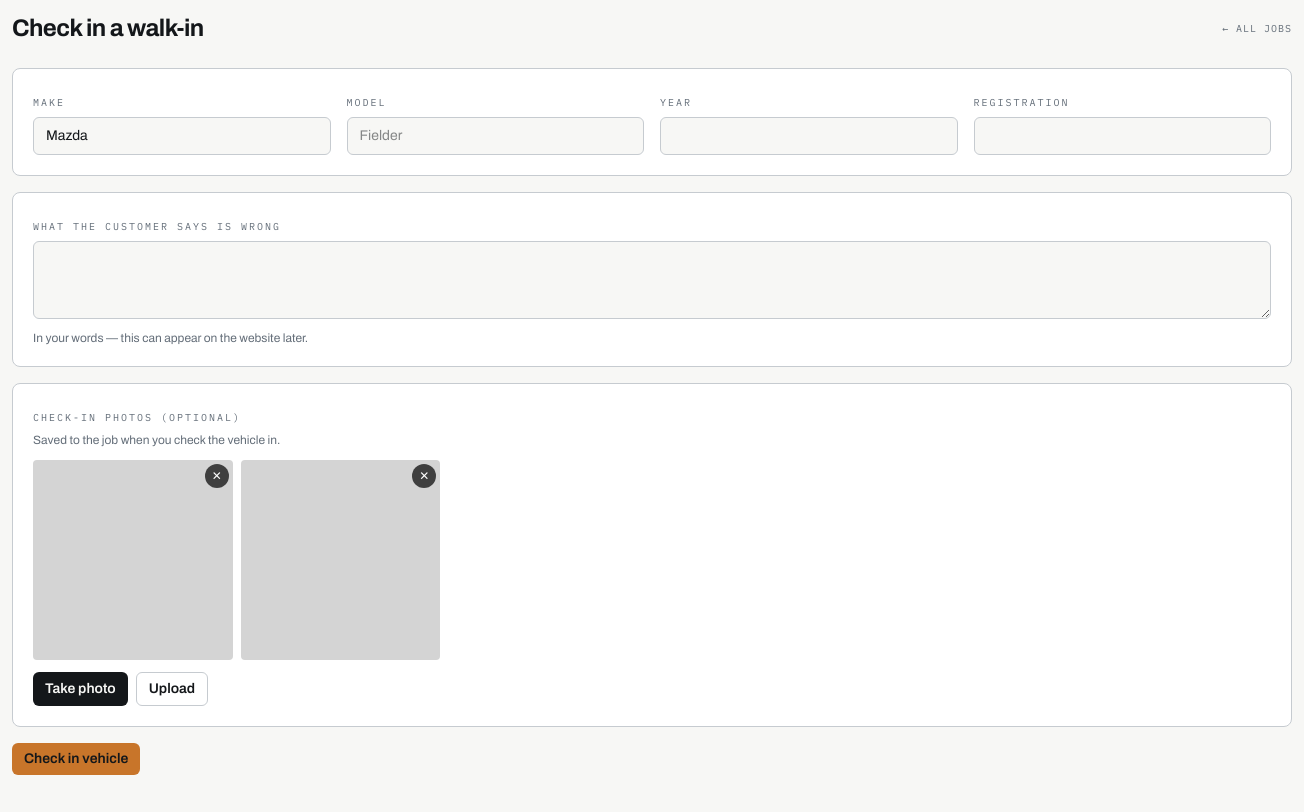
Test case: <WalkInForm /> › uploads check-in photos once the job exists
Earlier steps of the test are not shown.
Click the button named "Remove check-in photo 1": (217, 476) [205,464,229,488]
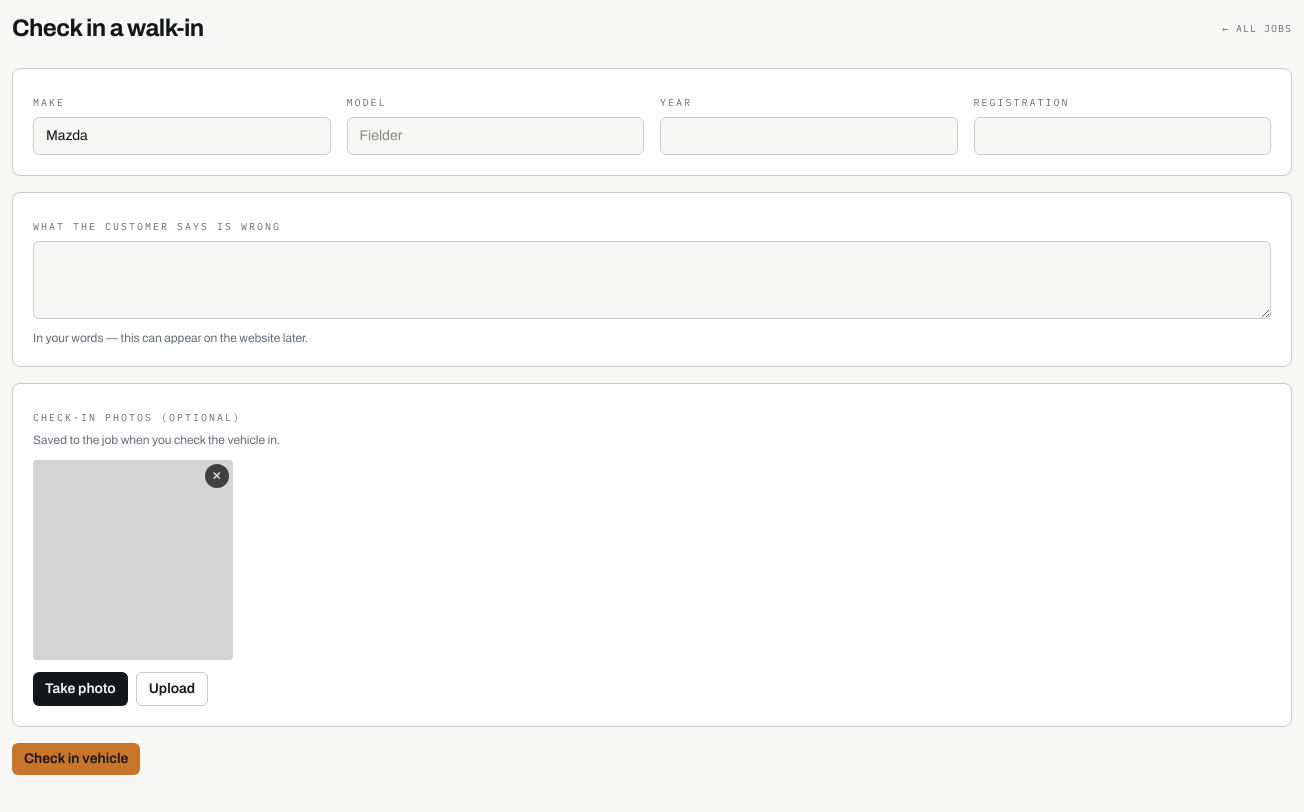
Click the button "Check in vehicle": (76, 759) [12,743,140,775]
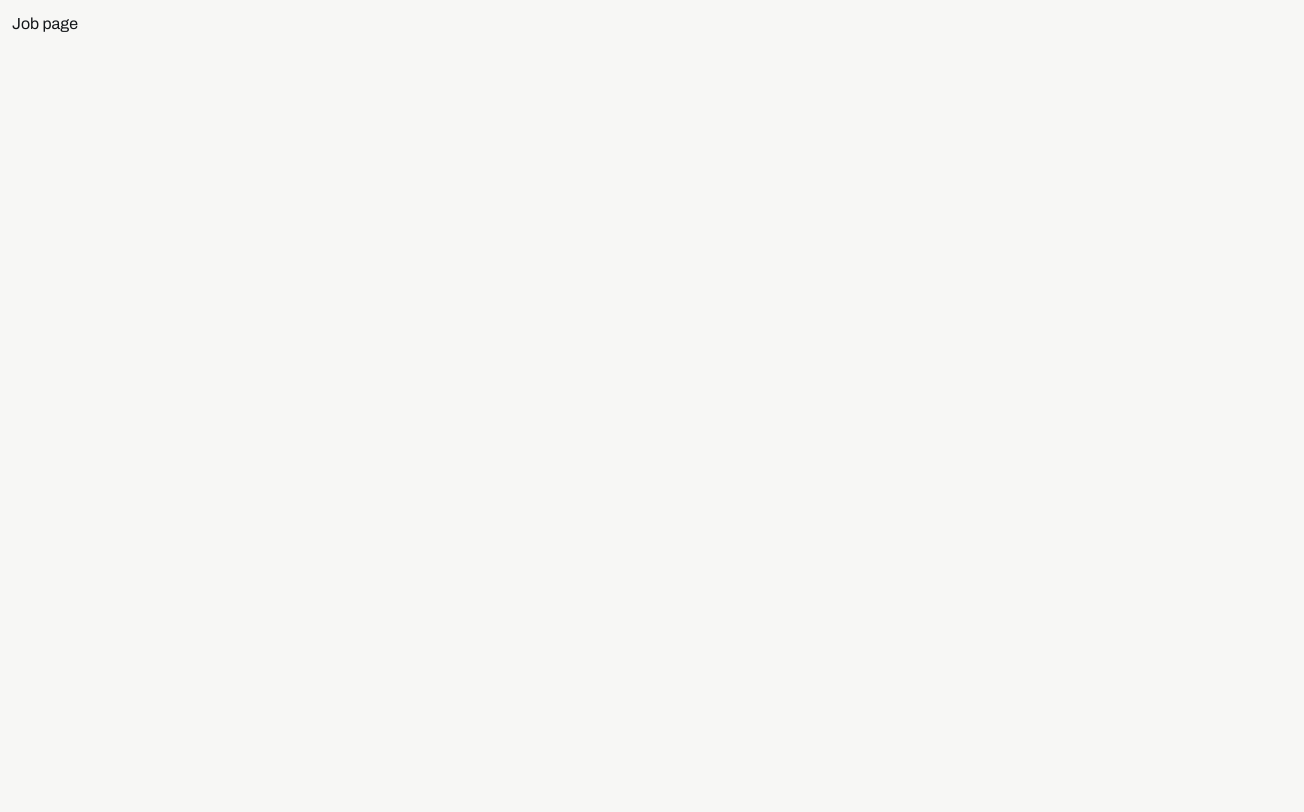
Now the text "Job page" is shown, box [12,15,78,32]
